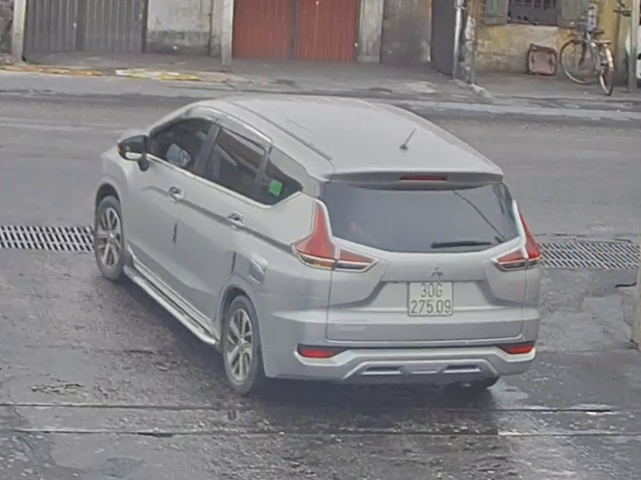vehicle plate: (401, 276, 453, 319)
